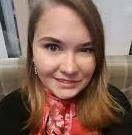strokeEyeMid: (38, 34, 95, 58)
